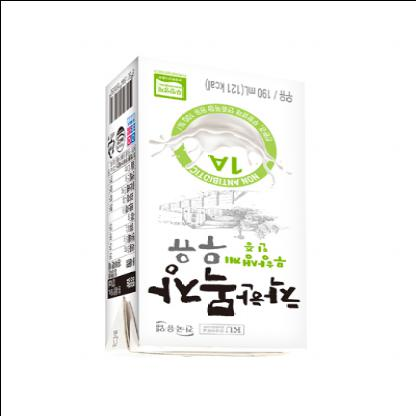tetra: (90, 39, 324, 384)
